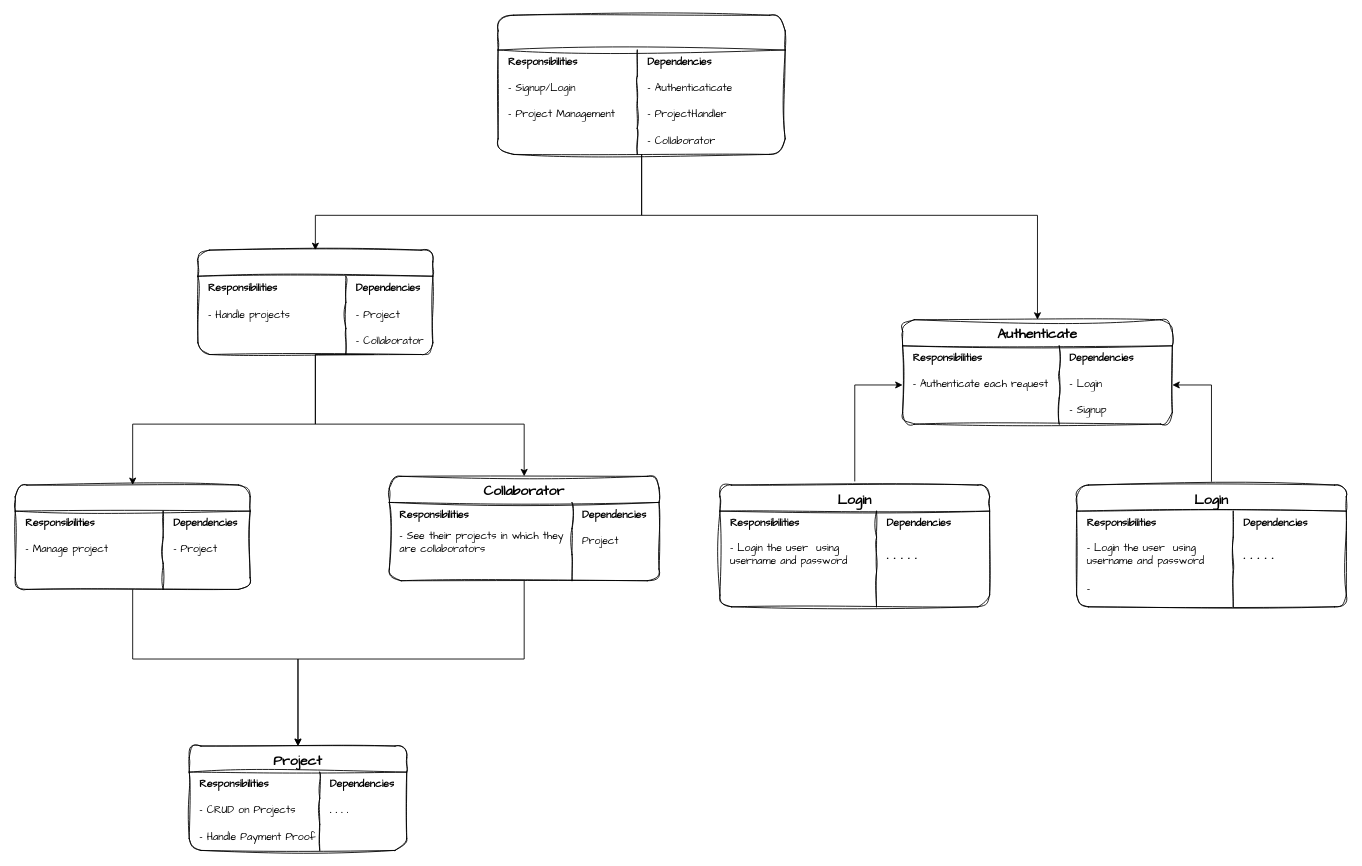
This 1362x866 diagram has some shape labels left out. The box of each missing label's shape, as (x1, y1, x2, y2) in pixels:
Project Management System: (497, 14, 785, 154)
ProjectHandler: (197, 249, 433, 355)
ProjectManager: (14, 484, 250, 589)
